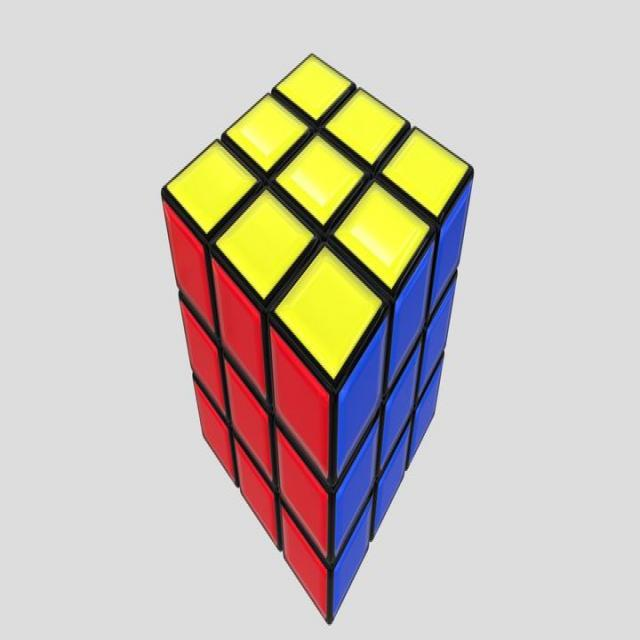Rub: (164, 51, 474, 628)
